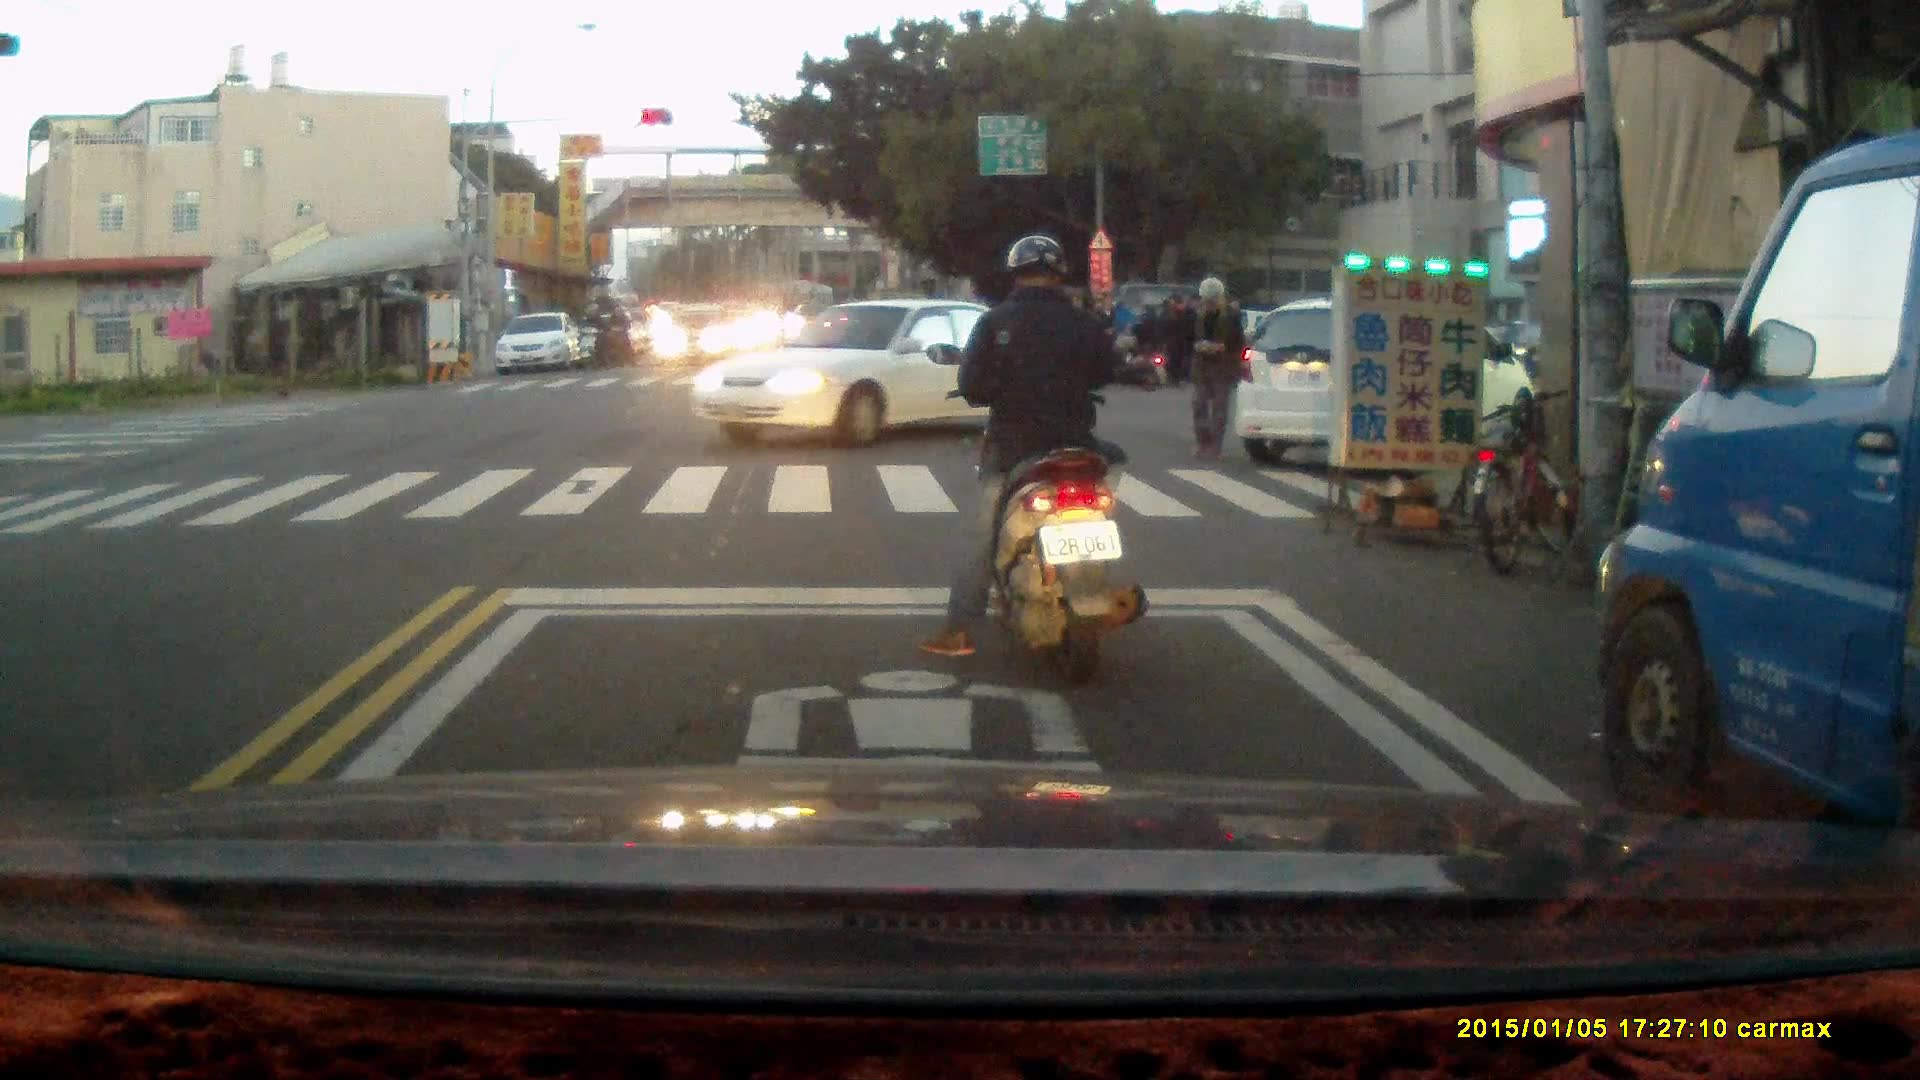pedestrian: (1184, 273, 1241, 463), (1087, 288, 1126, 387)
rider: (917, 235, 1148, 686), (1088, 290, 1166, 392), (596, 299, 633, 367), (577, 301, 612, 372)
vehicle: (1596, 120, 1920, 901), (690, 298, 1061, 445), (1236, 303, 1533, 462), (657, 299, 744, 373), (493, 311, 584, 378)
